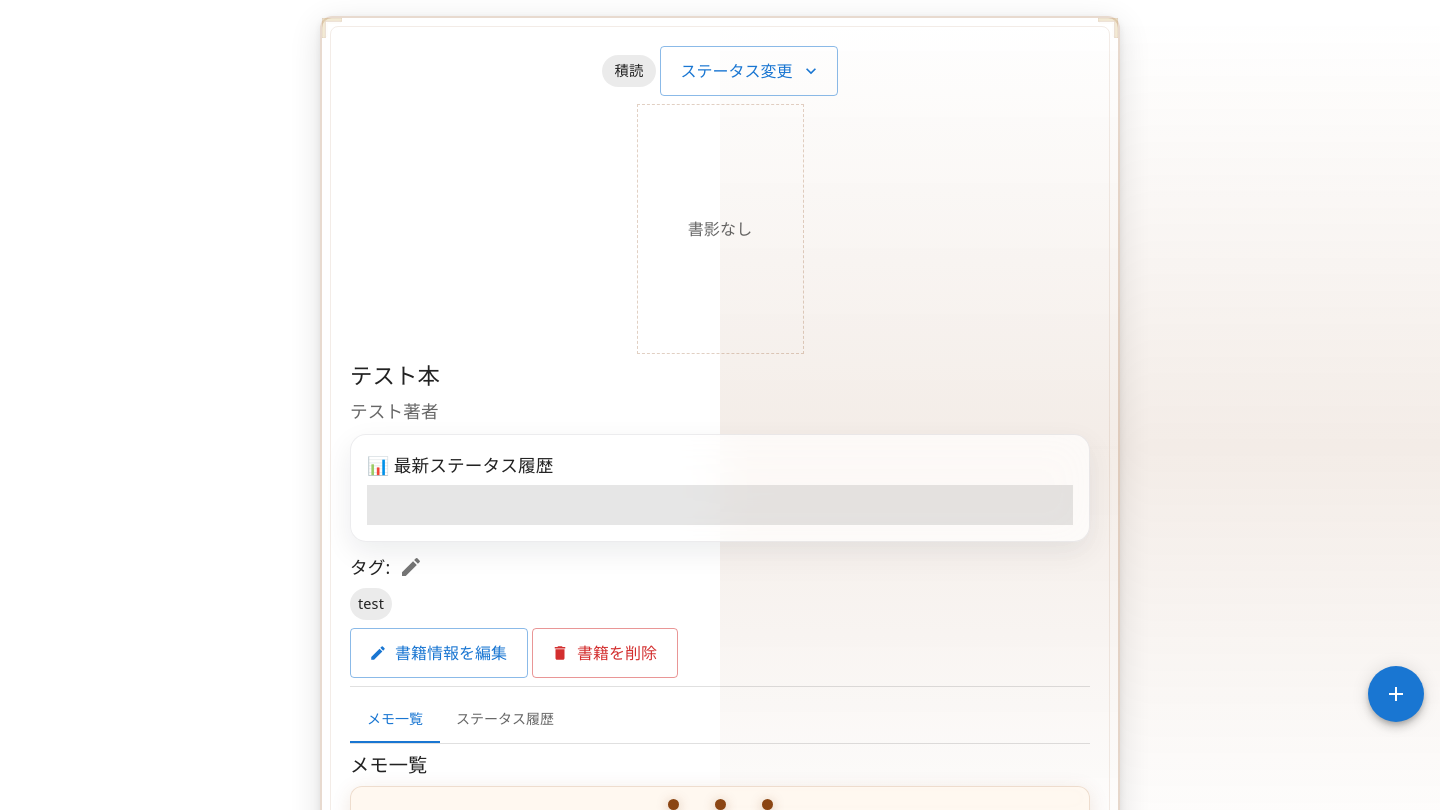
Test: BookDetail › タブ機能 › ステータス履歴のローディング状態が表示される
This screenshot has width=1440, height=810.
Note: ステータス履歴タブをクリック
Step 1. Click the tab with test id "status-history-tab" → click(505, 719), box top-left (440, 695), bottom-right (570, 743)
(page scrolled)
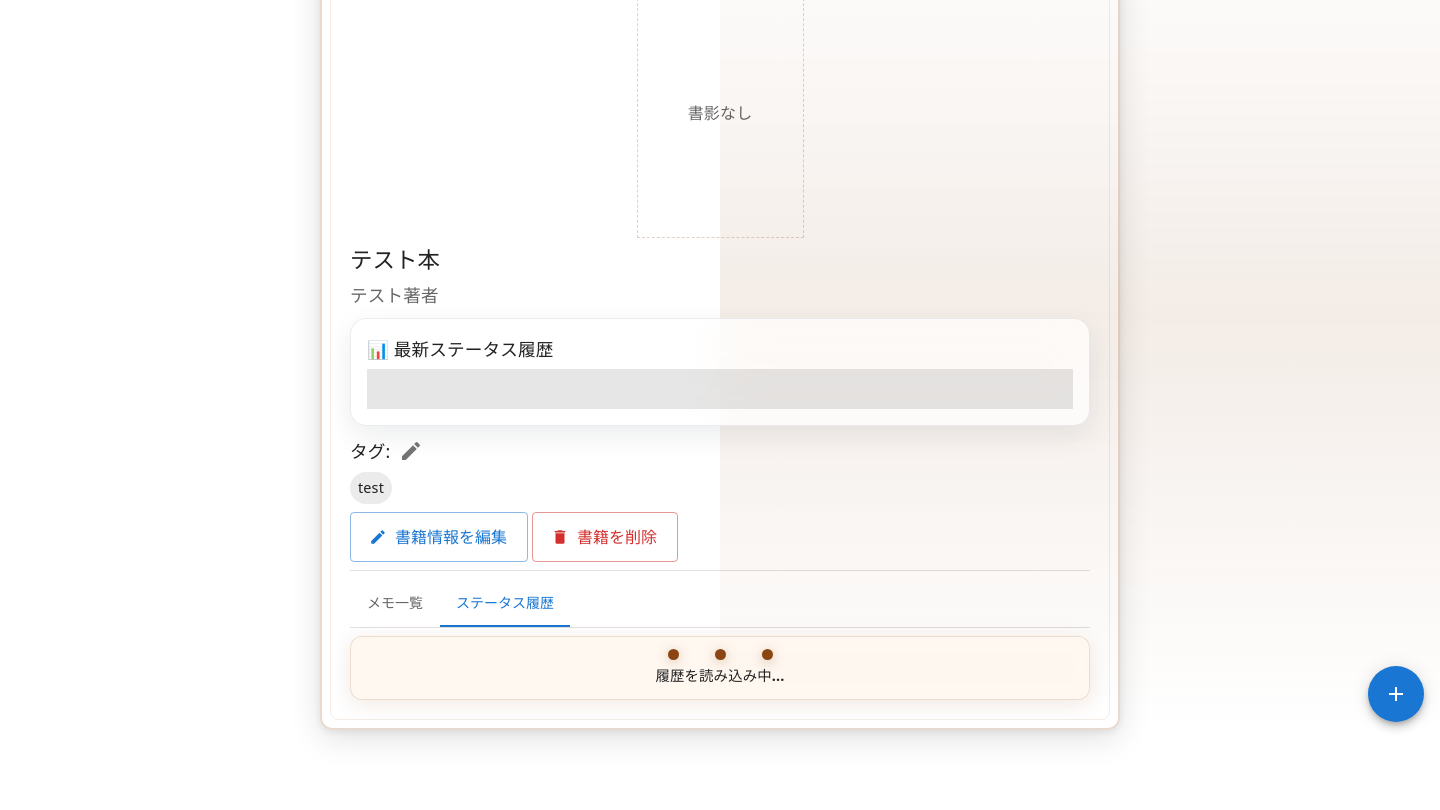
Result: the element with test id "status-history-loading" is shown at top-left (350, 636), bottom-right (1090, 700)
